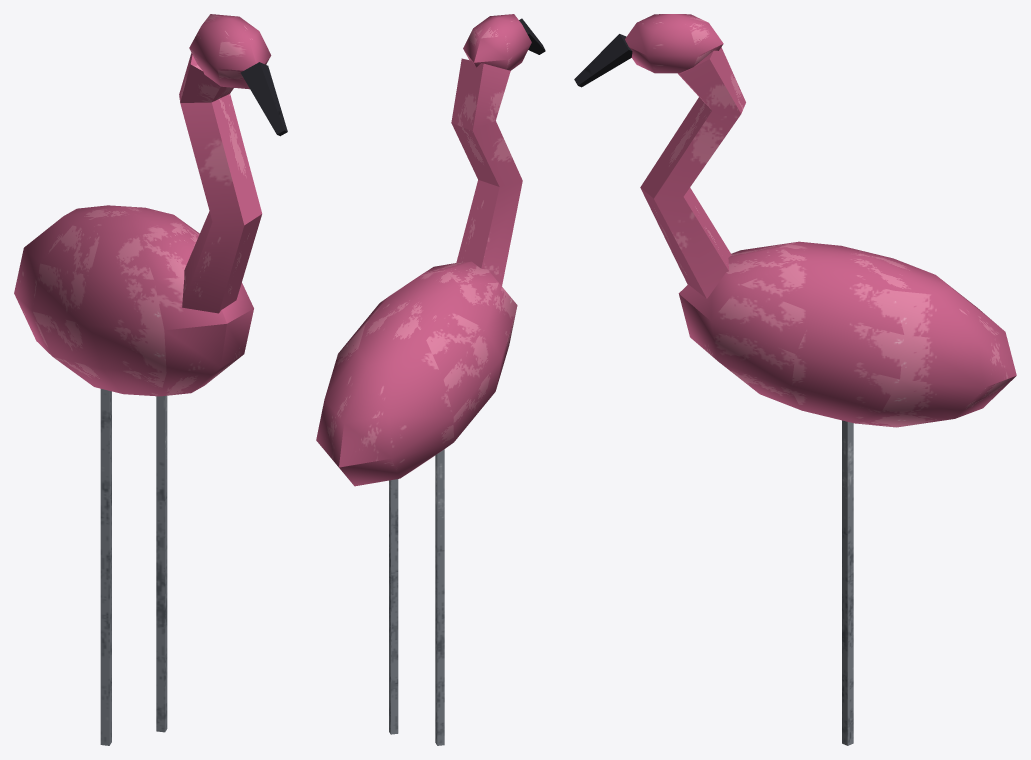
The model's file is lawn_flamingo.glb.
3 renders of one model, left to right at view 1: azimuth 30°, elevation 25°; view 2: azimuth 150°, elevation 25°; view 3: azimuth 270°, elevation 25°, orthographic. The views are drawn at different scales.
Parts seen in each view (by area): view 1: Prop; view 2: Prop; view 3: Prop.
Boxes of the visible parts, box(x1,y1,x2,y2) form: Prop: box(14, 14, 287, 745); Prop: box(316, 14, 545, 745); Prop: box(574, 14, 1016, 745).
Size of the model in its own units: 0.2092 by 1.08 by 0.607.
2 materials, 2 textured.
